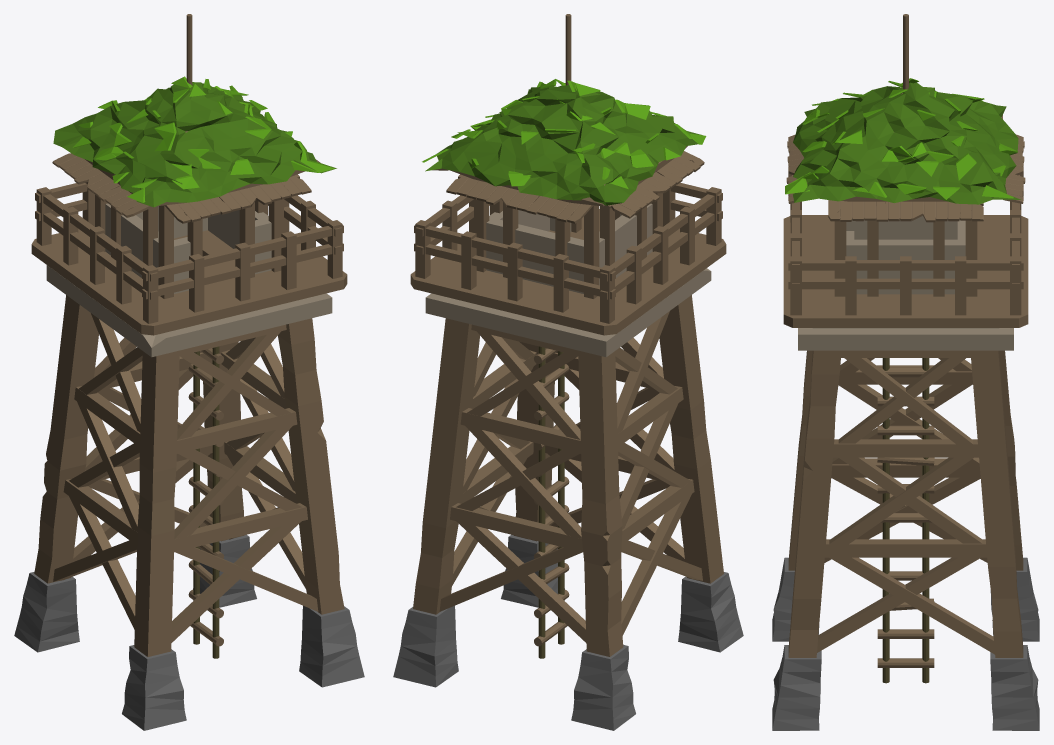
Rendered from Watchtower.fbx.
The picture shows the model from 3 angles, left to right: view 1: azimuth 30°, elevation 25°; view 2: azimuth 150°, elevation 25°; view 3: azimuth 270°, elevation 25°; orthographic projection. The views are drawn at different scales.
Visible parts, largest first — view 1: Watchtower; view 2: Watchtower; view 3: Watchtower.
Boxes of the visible parts, x1,y1,x2,y2 form: Watchtower: [14, 14, 364, 730]; Watchtower: [393, 14, 743, 730]; Watchtower: [772, 14, 1039, 730].
Size of the model in its own units: 8.42 by 23.37 by 8.58.
